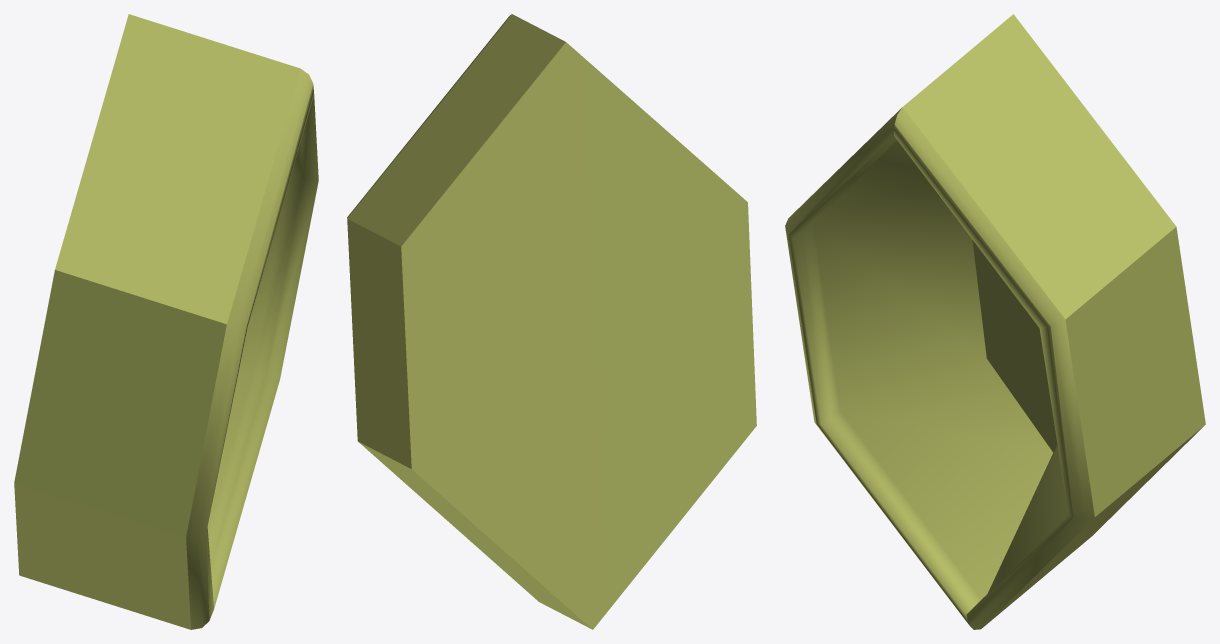
The model's file is TR3_8shapes_Hex_Classic_Metal.001 2.glb.
3 views of the same model, side by side, from view 1: azimuth 30°, elevation 25°; view 2: azimuth 150°, elevation 25°; view 3: azimuth 270°, elevation 25° (orthographic). The views are drawn at different scales.
Visible parts, largest first — view 1: TR3_8shapes_Hex_Classic_Metal.001; view 2: TR3_8shapes_Hex_Classic_Metal.001; view 3: TR3_8shapes_Hex_Classic_Metal.001.
Boxes of the visible parts, x1,y1,x2,y2 form: TR3_8shapes_Hex_Classic_Metal.001: (14,14,318,629); TR3_8shapes_Hex_Classic_Metal.001: (347,14,756,629); TR3_8shapes_Hex_Classic_Metal.001: (785,14,1205,629).
Bounding box in the file's own units: 0.5425 × 0.8693 × 0.5582.
